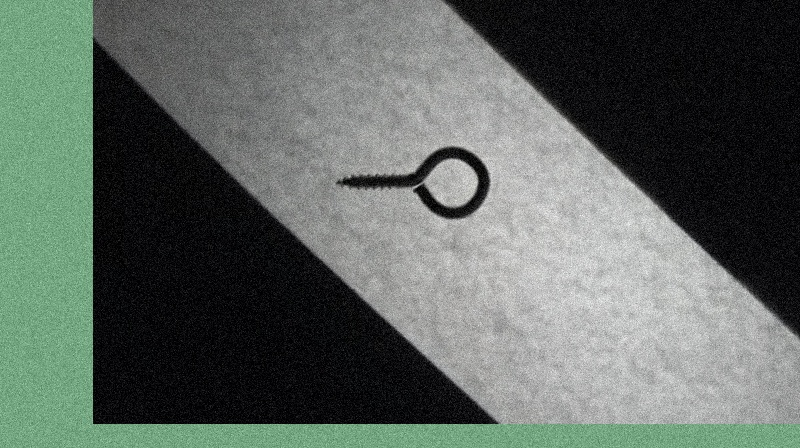O001: (332, 144, 496, 219)
